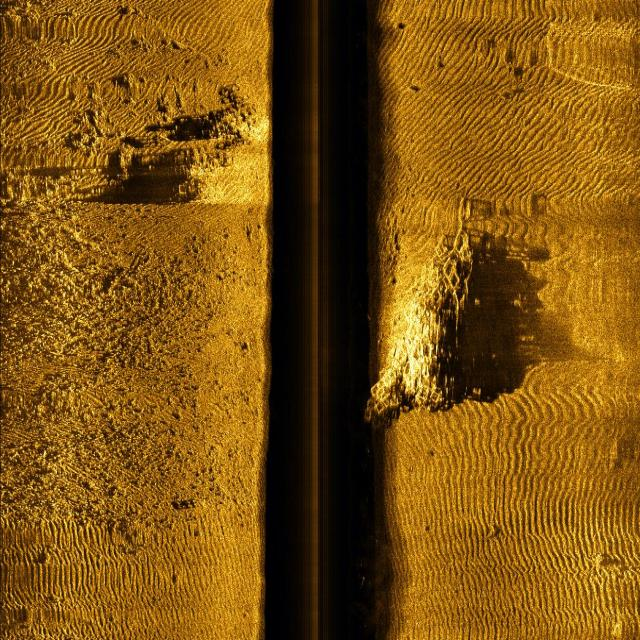artificial reef: (361, 217, 480, 421)
